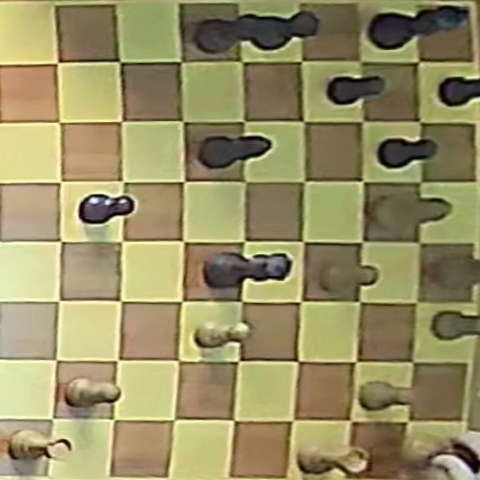black-bishop: (198, 135, 271, 169)
black-king: (369, 6, 468, 50)
black-pawn: (378, 137, 440, 169), (327, 74, 387, 105), (80, 193, 135, 224), (440, 75, 480, 106)
black-queen: (204, 251, 290, 287)
black-rook: (194, 12, 262, 54), (253, 9, 319, 51)
white-bishop: (369, 193, 454, 228)
white-pawn: (319, 262, 378, 295), (65, 377, 120, 407), (360, 380, 413, 410), (195, 321, 251, 348), (431, 311, 480, 340)
white-queen: (425, 253, 480, 292)
white-rook: (299, 444, 371, 476), (9, 429, 72, 461)
